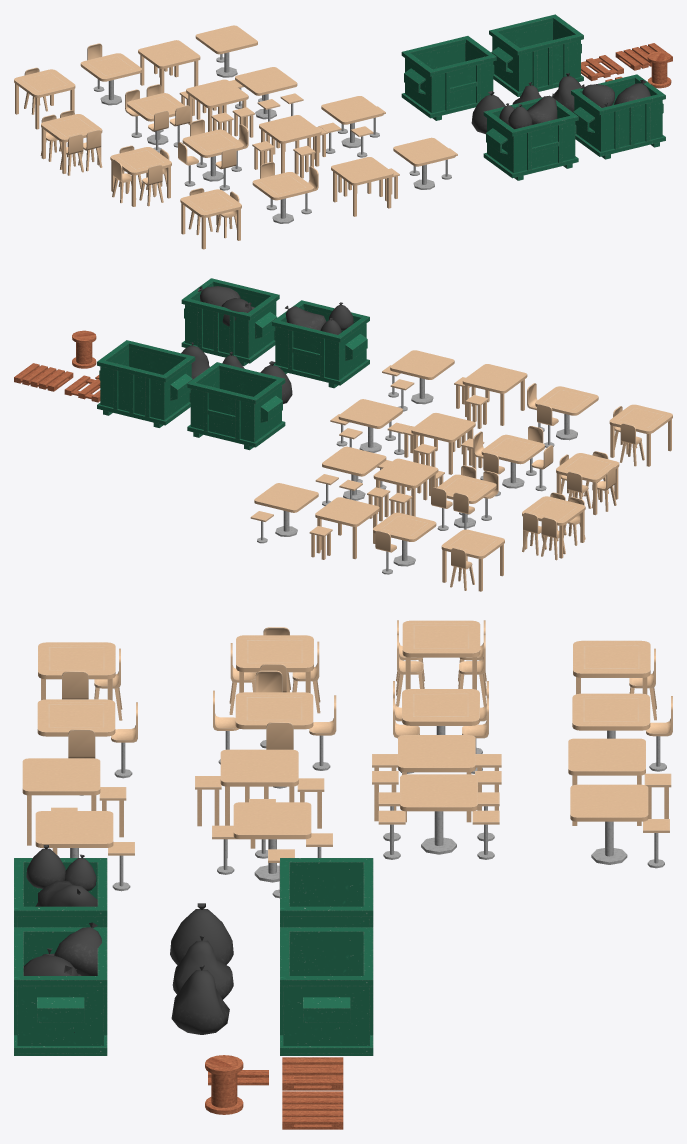
Rendered from GarbageTables.gltf.
3 views of the same model, one above another, from view 1: azimuth 30°, elevation 25°; view 2: azimuth 150°, elevation 25°; view 3: azimuth 270°, elevation 25° (orthographic). The views are drawn at different scales.
Visible parts, largest first — view 1: TrashProps_Dumpster_A_2, TrashProps_Dumpster_B_2, TrashProps_Dumpster_A_1, TrashProps_Dumpster_B_1, TrashProps_Table_B_6, TrashProps_Table_A_4, TrashProps_Table_B_3, TrashProps_Table_B_5, TrashProps_Table_A_3, TrashProps_Table_B_4, TrashProps_Table_B_7, TrashProps_Table_A_6 (+13 smaller); view 2: TrashProps_Dumpster_A_2, TrashProps_Dumpster_A_1, TrashProps_Dumpster_B_1, TrashProps_Dumpster_B_2, TrashProps_Table_B_3, TrashProps_Table_B_6, TrashProps_Table_A_4, TrashProps_Table_A_3, TrashProps_Table_B_5, TrashProps_Table_B_4, TrashProps_Table_A_7, TrashProps_Table_B_7 (+14 smaller); view 3: TrashProps_Dumpster_B_2, TrashProps_Dumpster_B_1, TrashProps_Dumpster_A_2, TrashProps_Dumpster_A_1, TrashProps_Table_A_5, TrashProps_Table_B_6, TrashProps_Table_A_6, TrashProps_Table_A_4, TrashProps_Table_A_3, TrashProps_Table_B_3, TrashProps_Table_B_5, TrashProps_Table_B_8 (+14 smaller).
Part boxes in pixels (bbox=[...]): TrashProps_Dumpster_A_2: bbox=[483, 93, 578, 180]; TrashProps_Dumpster_B_2: bbox=[571, 74, 665, 159]; TrashProps_Dumpster_A_1: bbox=[401, 36, 496, 120]; TrashProps_Dumpster_B_1: bbox=[489, 14, 583, 96]; TrashProps_Table_B_6: bbox=[178, 119, 248, 190]; TrashProps_Table_A_4: bbox=[252, 115, 327, 178]; TrashProps_Table_B_3: bbox=[40, 110, 102, 175]; TrashProps_Table_B_5: bbox=[110, 145, 171, 206]; TrashProps_Table_A_3: bbox=[179, 79, 254, 137]; TrashProps_Table_B_4: bbox=[125, 84, 190, 152]; TrashProps_Table_B_7: bbox=[180, 188, 241, 249]; TrashProps_Table_A_6: bbox=[318, 96, 385, 157]; TrashProps_Dumpster_A_2: bbox=[272, 300, 369, 388]; TrashProps_Dumpster_A_1: bbox=[187, 362, 285, 450]; TrashProps_Dumpster_B_1: bbox=[97, 340, 195, 427]; TrashProps_Dumpster_B_2: bbox=[181, 278, 279, 366]; TrashProps_Table_B_3: bbox=[522, 492, 585, 560]; TrashProps_Table_B_6: bbox=[473, 426, 553, 496]; TrashProps_Table_A_4: bbox=[403, 413, 484, 474]; TrashProps_Table_A_3: bbox=[367, 458, 444, 521]; TrashProps_Table_B_5: bbox=[556, 451, 619, 515]; TrashProps_Table_B_4: bbox=[431, 465, 498, 530]; TrashProps_Table_A_7: bbox=[454, 364, 527, 428]; TrashProps_Table_B_7: bbox=[609, 404, 672, 466]; TrashProps_Dumpster_B_2: bbox=[14, 922, 107, 1055]; TrashProps_Dumpster_B_1: bbox=[280, 927, 373, 1055]; TrashProps_Dumpster_A_2: bbox=[14, 845, 107, 927]; TrashProps_Dumpster_A_1: bbox=[280, 858, 373, 927]; TrashProps_Table_A_5: bbox=[378, 774, 499, 859]; TrashProps_Table_B_6: bbox=[213, 670, 336, 788]; TrashProps_Table_A_6: bbox=[212, 802, 332, 898]; TrashProps_Table_A_4: bbox=[195, 749, 324, 848]; TrashProps_Table_A_3: bbox=[372, 735, 501, 822]; TrashProps_Table_B_3: bbox=[396, 620, 486, 706]; TrashProps_Table_B_5: bbox=[229, 627, 320, 714]; TrashProps_Table_B_8: bbox=[37, 699, 137, 795].
Bounding box in the file's own units: 17.3 × 1.89 × 10.59.
Materials: 1 (1 with a texture image).
